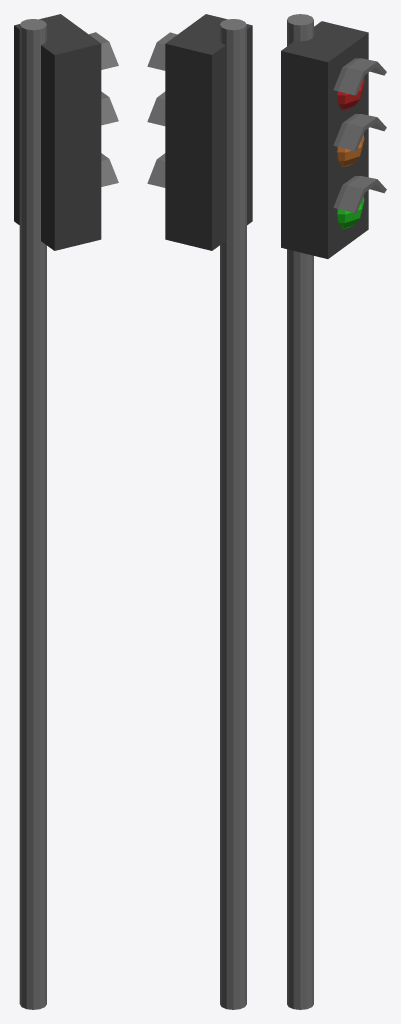
The model's file is TrafficLight1Coloured.fbx.
3 renders of one model, left to right at view 1: azimuth 30°, elevation 25°; view 2: azimuth 150°, elevation 25°; view 3: azimuth 330°, elevation 25°, orthographic.
Visible parts, largest first — view 1: Cylinder, Cube, Torus.001, Torus.000, Torus.002; view 2: Cylinder, Cube, Torus.001, Torus.002, Torus.000; view 3: Cylinder, Cube, Torus.001, Torus.002, Torus.000, Sphere.002, Sphere.001, Sphere.
Part boxes in pixels (bbox=[...]): Cylinder: bbox=[19, 19, 46, 1009]; Cube: bbox=[14, 14, 101, 250]; Torus.001: bbox=[89, 32, 118, 69]; Torus.000: bbox=[101, 91, 118, 125]; Torus.002: bbox=[101, 153, 118, 186]; Cylinder: bbox=[220, 19, 246, 1009]; Cube: bbox=[165, 14, 252, 250]; Torus.001: bbox=[147, 32, 177, 70]; Torus.002: bbox=[147, 153, 165, 187]; Torus.000: bbox=[147, 91, 165, 126]; Cylinder: bbox=[287, 14, 313, 1009]; Cube: bbox=[281, 21, 368, 258]; Torus.001: bbox=[333, 58, 386, 95]; Torus.002: bbox=[333, 176, 386, 212]; Torus.000: bbox=[333, 114, 386, 150]; Sphere.002: bbox=[337, 196, 364, 228]; Sphere.001: bbox=[337, 134, 364, 167]; Sphere: bbox=[337, 78, 364, 110].
Size of the model in its own units: 34.75 by 400 by 30.
